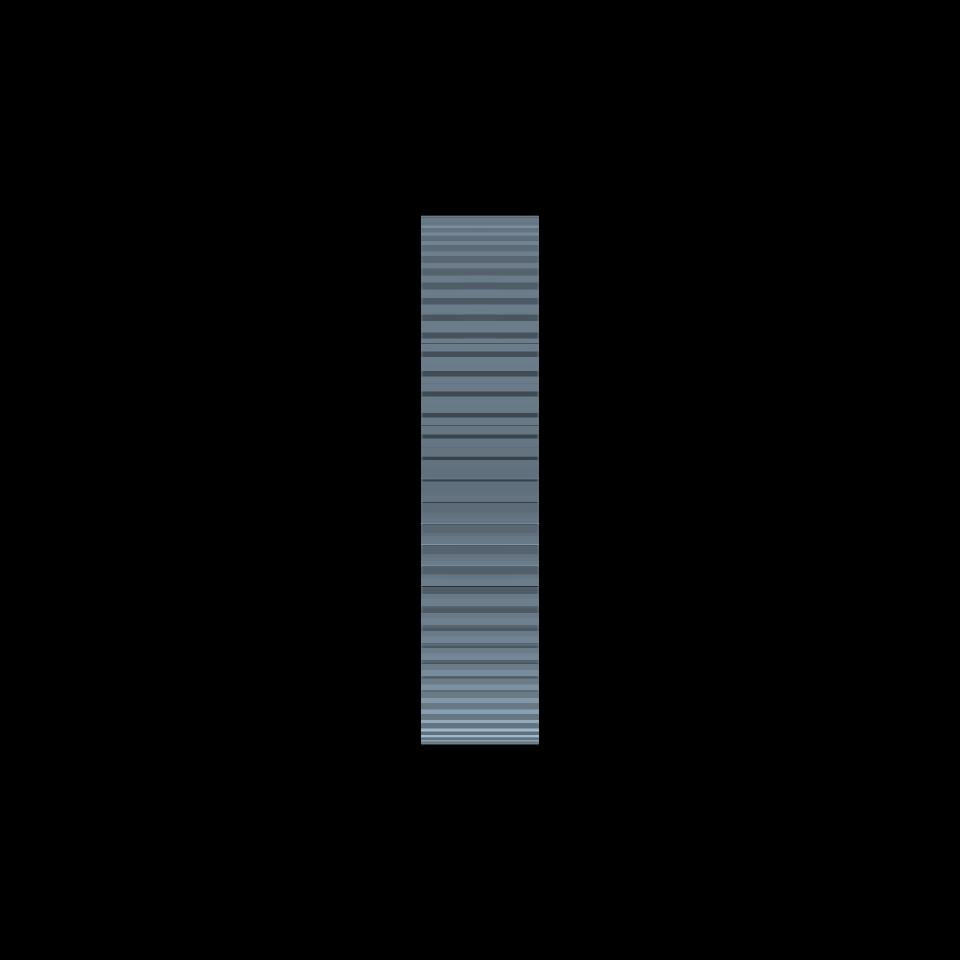Straight: (421, 215, 540, 743)
